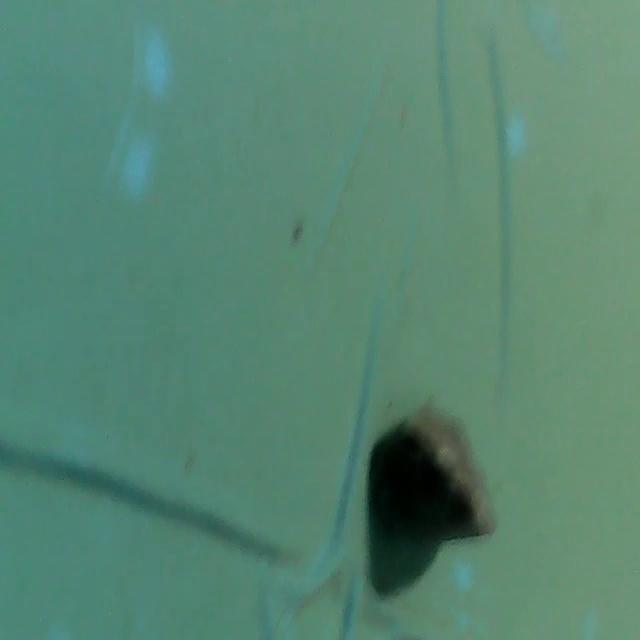rock: (368, 400, 499, 556)
